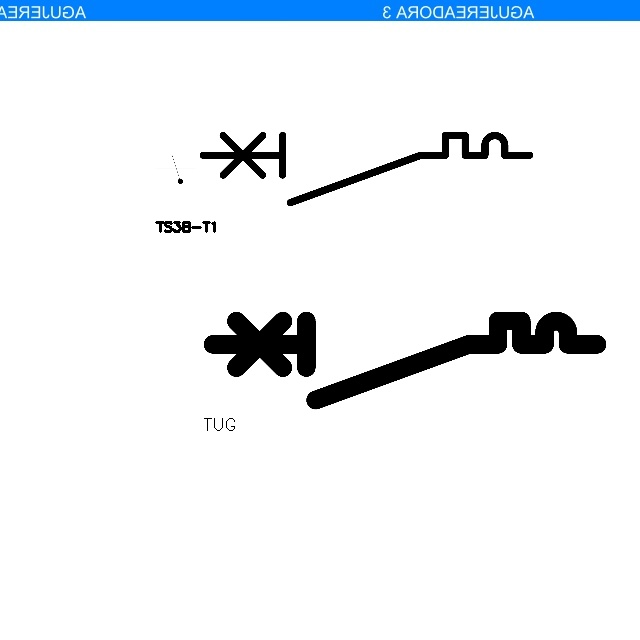interruptor_termomagnetico: (203, 311, 607, 410), (194, 127, 537, 211)
